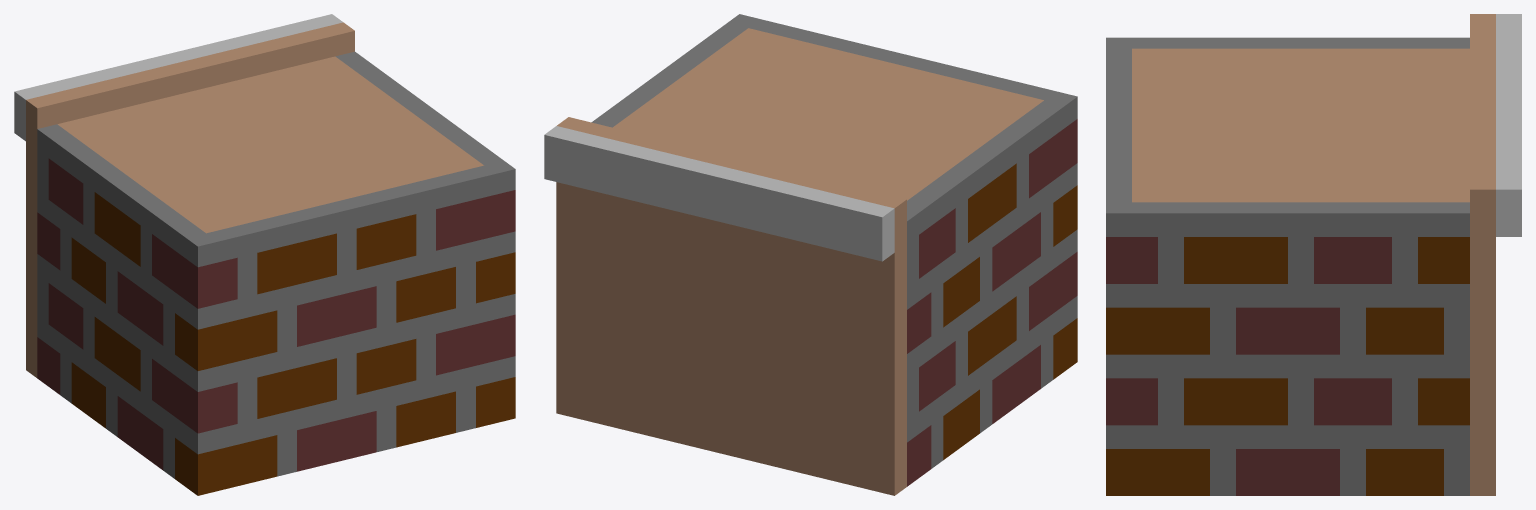
File: WallsSimpleV1Small.obj
3 renders of one model, left to right at view 1: azimuth 30°, elevation 25°; view 2: azimuth 150°, elevation 25°; view 3: azimuth 270°, elevation 25°, orthographic. The views are drawn at different scales.
Bounding box in the file's own units: 1.6 × 1.3 × 1.6.
1 material, 1 textured.
